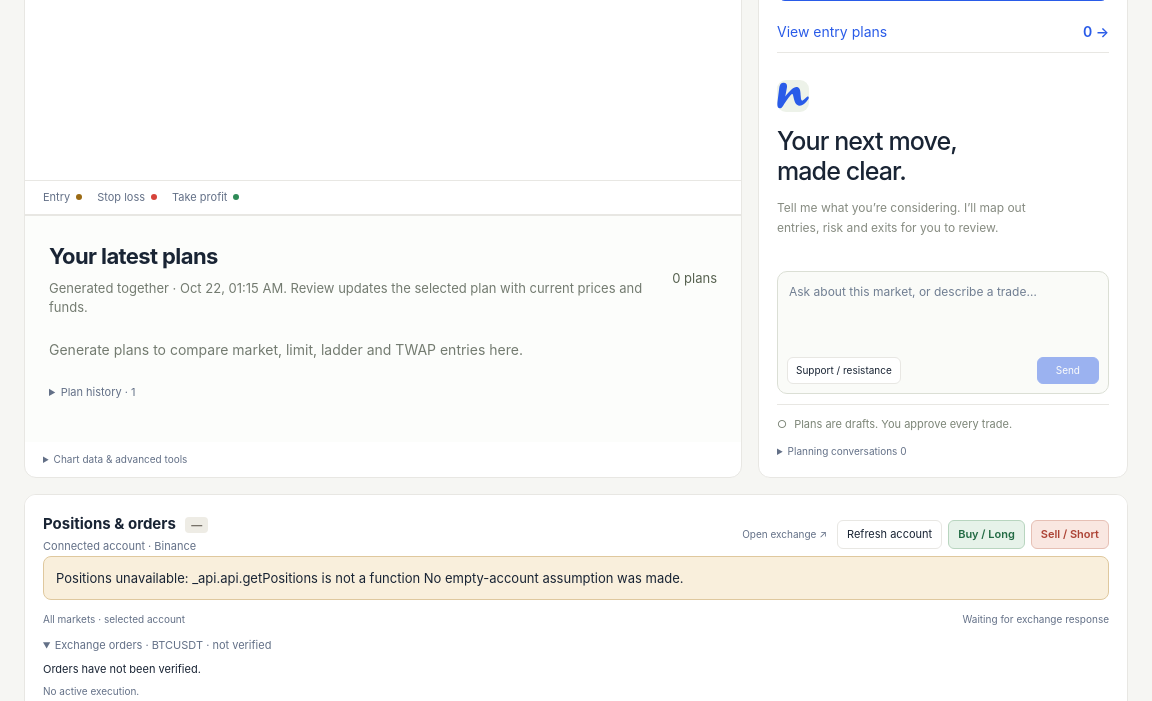
Scenario: starts a separate draft from a locked trade without revising or executing that trade
(page scrolled)
Click the heading "Plan history · 1" at (98, 392), box [61,385,136,399]
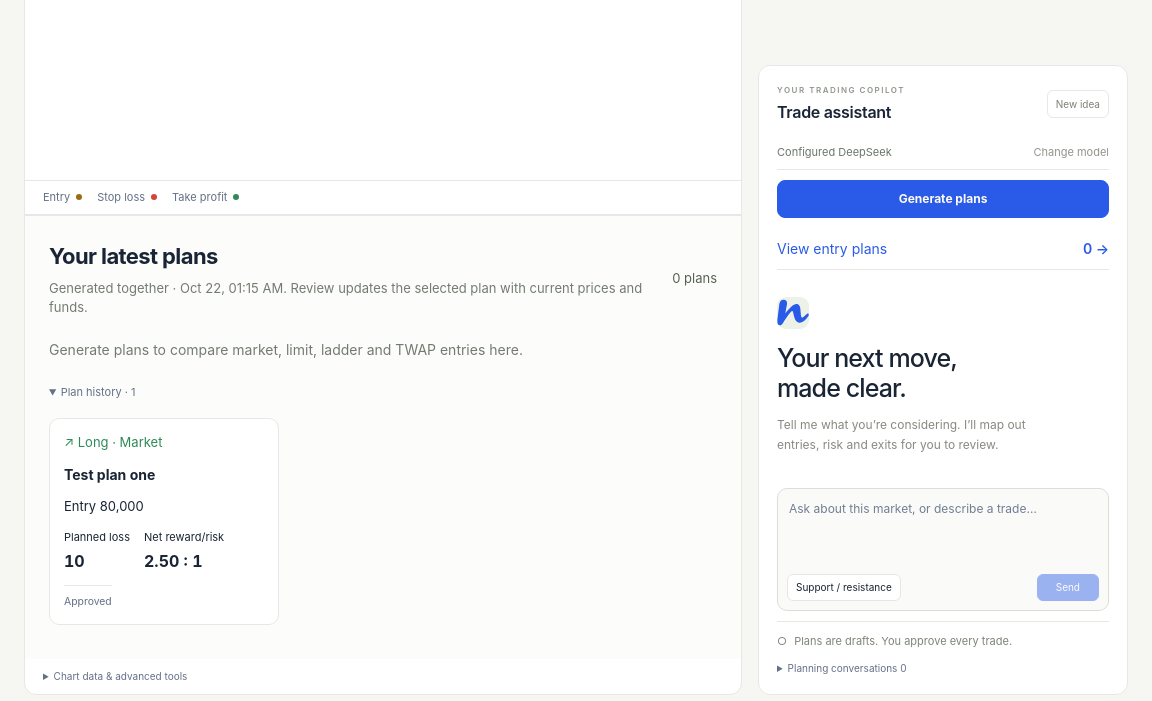
Click the button "Test plan one" at (164, 521), box [49,418,279,625]
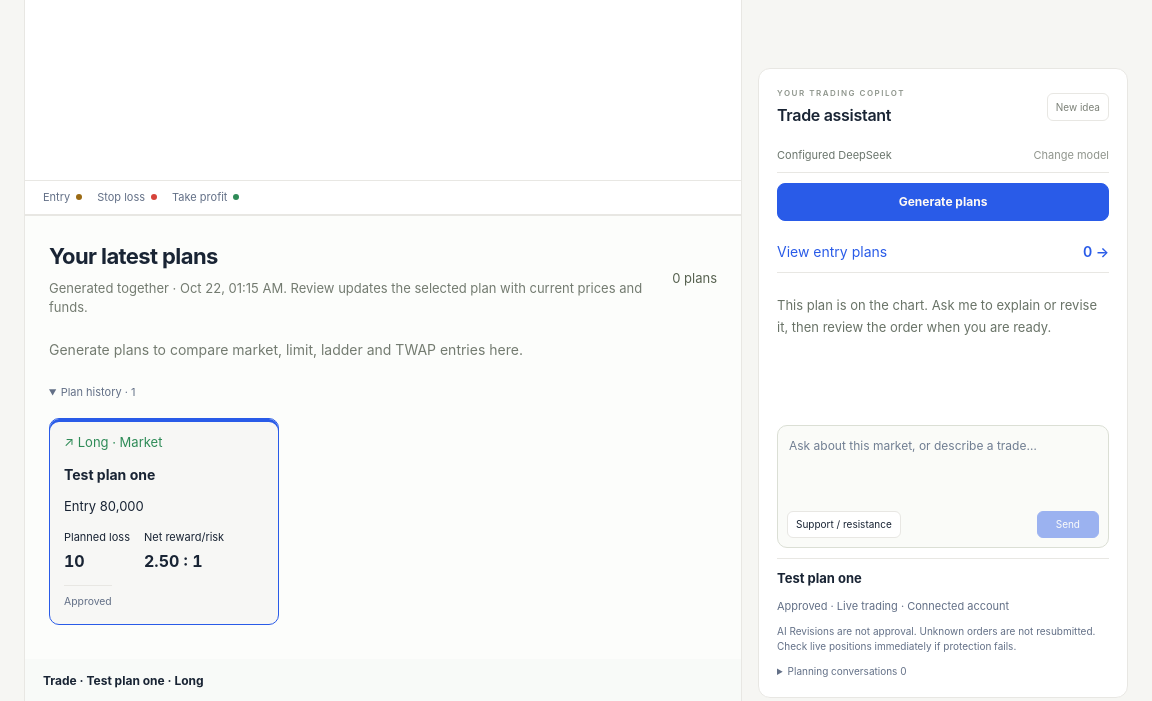
Type "Generate a new independent entry plan." into the text box named "Trade idea" at (943, 464), box [787,434,1099,494]
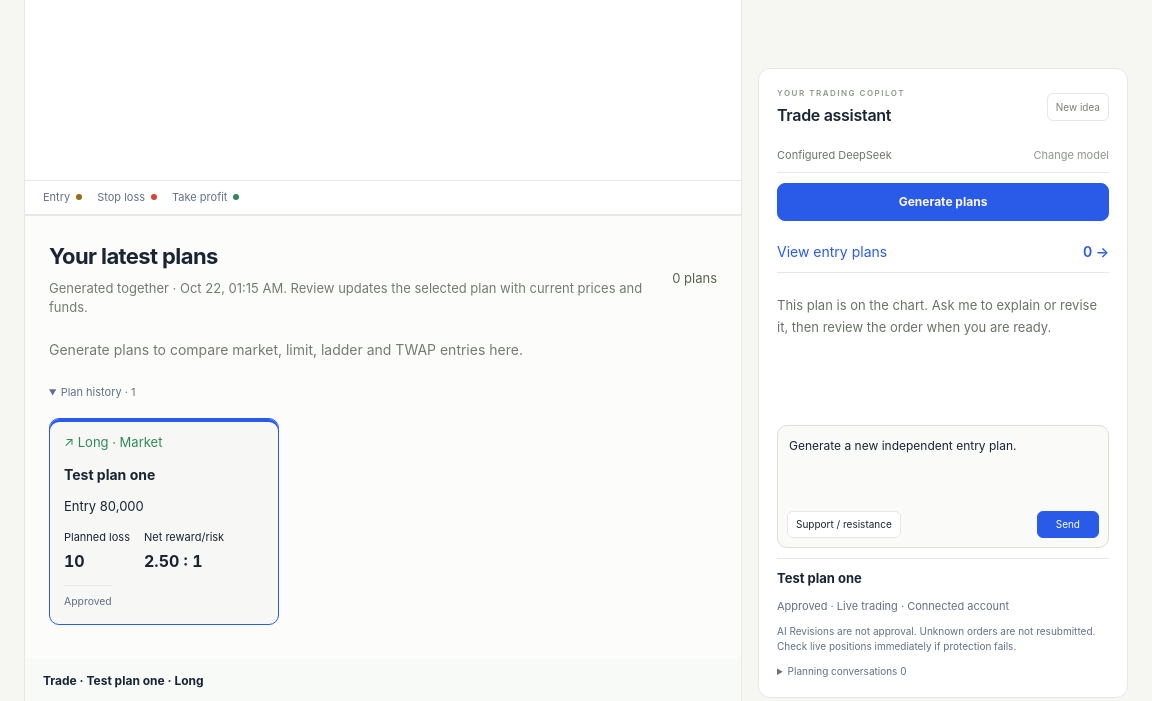
Click the button "Generate plans" at (943, 200), box [777,182,1109,220]
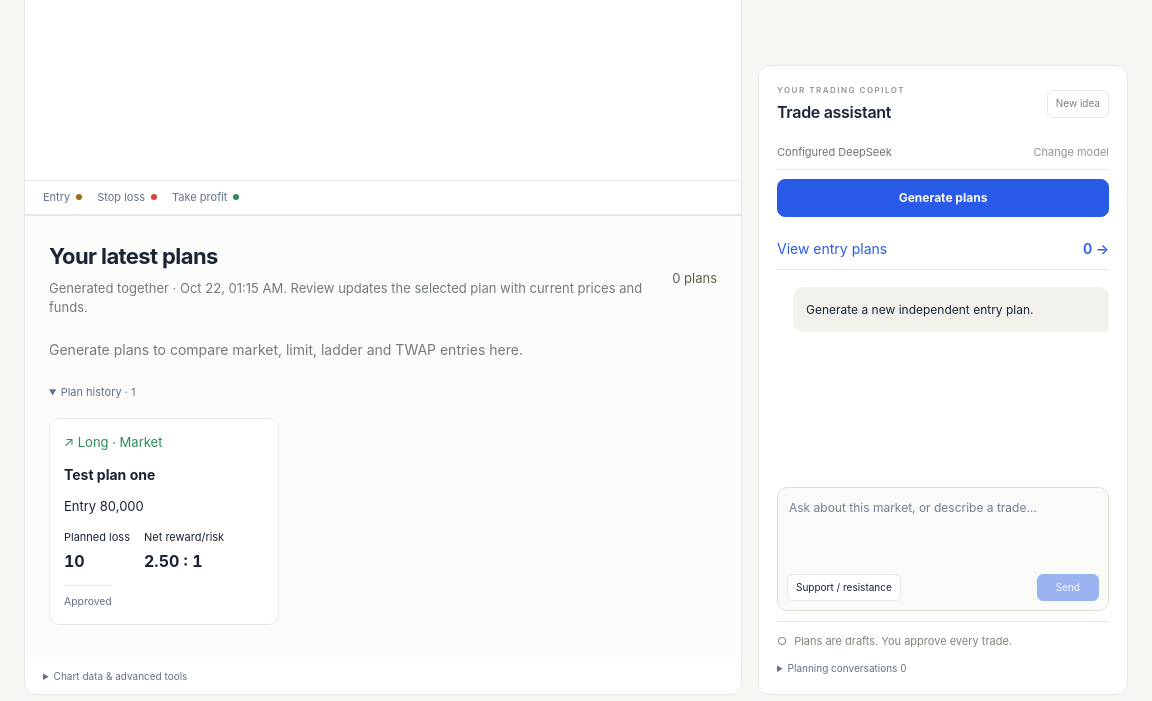
Result: the text "Generate a new independent entry plan." is shown at [793,287,1109,333]
